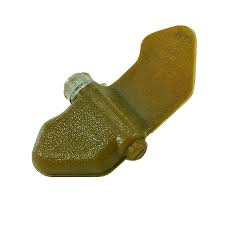butterfly: (23, 22, 209, 191)
